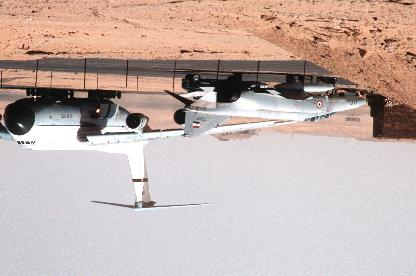C17: (1, 88, 299, 212)
F35: (164, 73, 368, 138)
